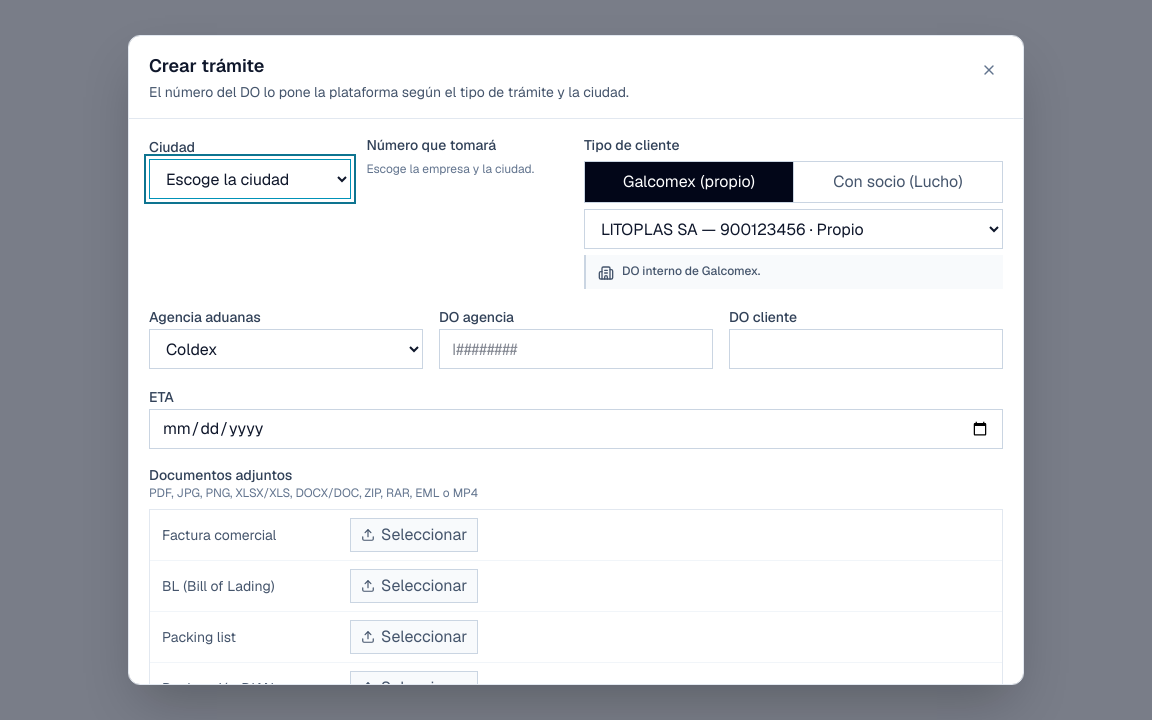
Scenario: Crear DO — D1 tarifa vigente › muestra el panel ámbar con el mensaje del servidor y deshabilita 'Crear DO' cuando no cumple
Select "LITOPLAS SA — 900123456 · Propio" in the dropdown named "clienteId" at (794, 229), box x1=584 y1=209 x2=1003 y2=249
(page scrolled)
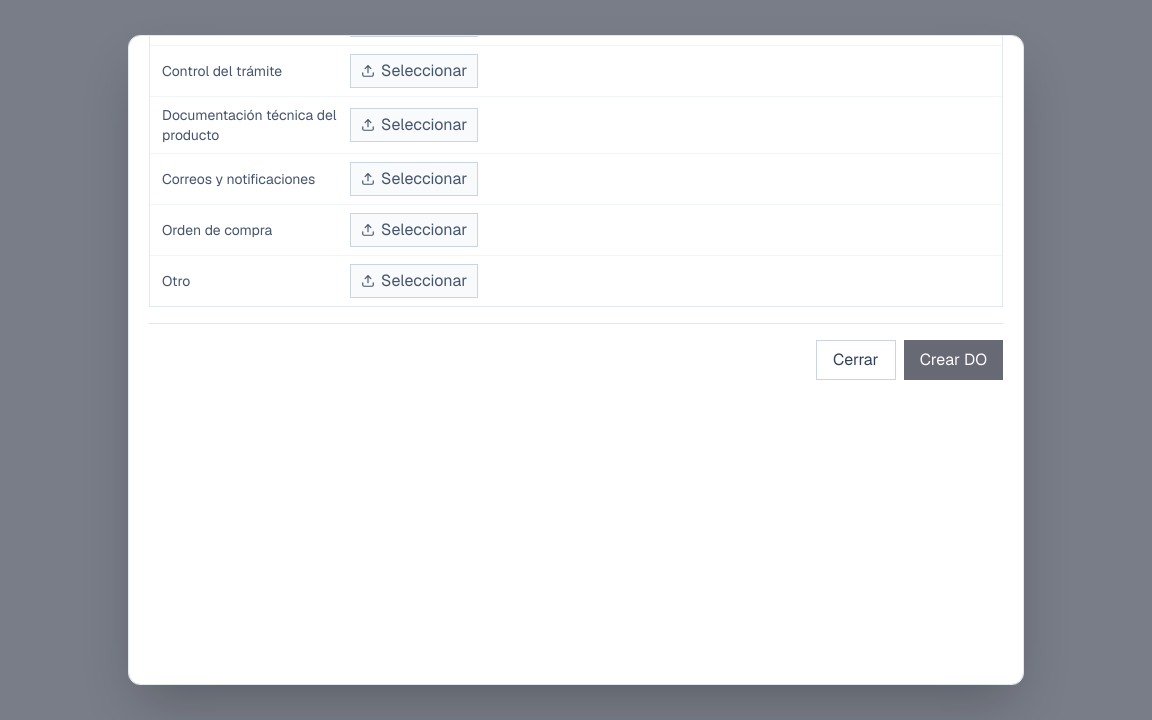
Check: the submit button is disabled, box x1=904 y1=340 x2=1003 y2=380
